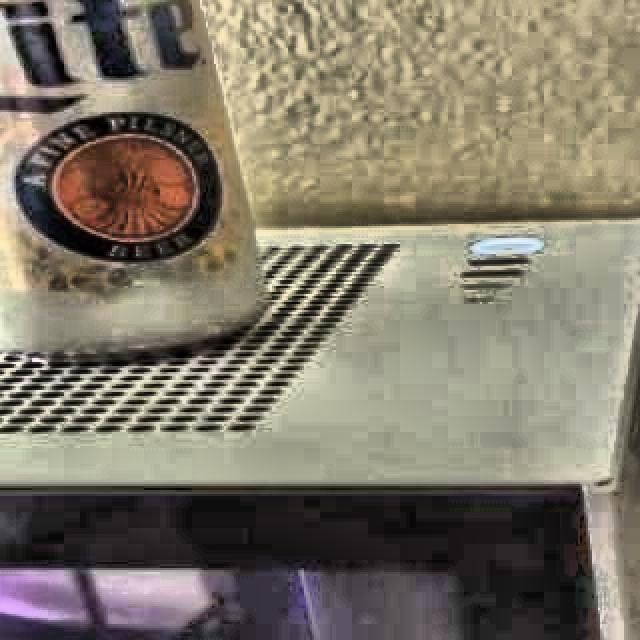metal: (0, 0, 284, 372)
